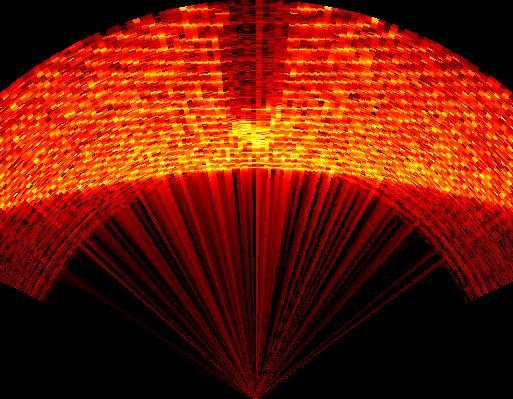box_crate: (214, 7, 289, 117)
